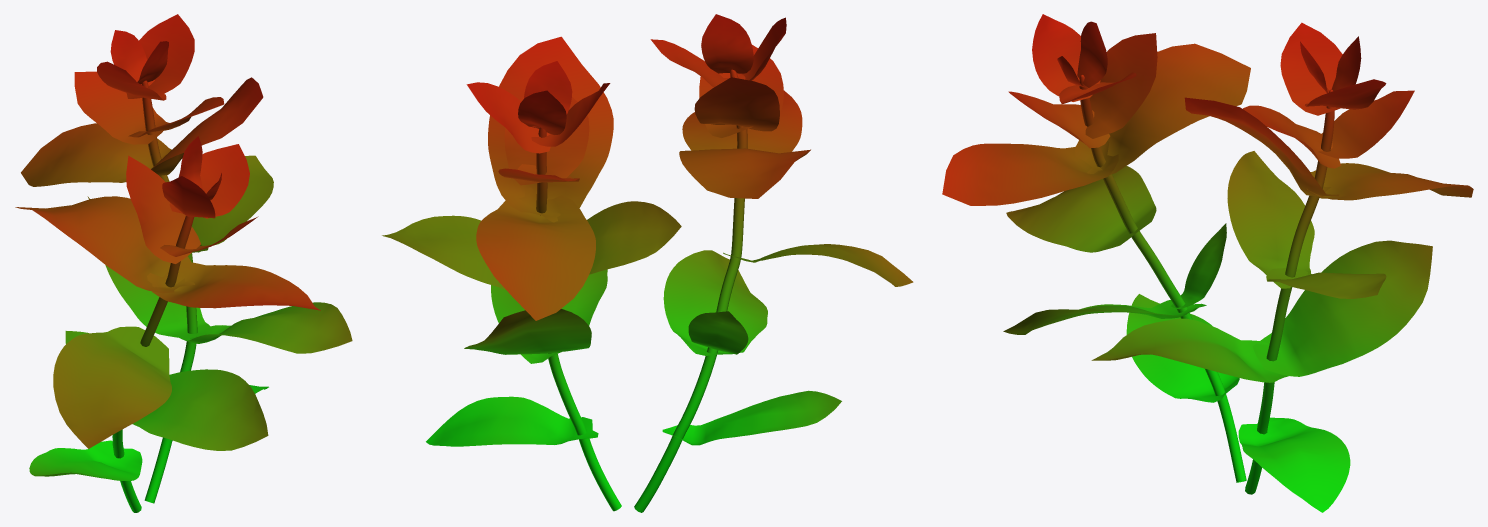
File: Rubber Bush_LOD0_Var7_xffhfekia.fbx
The picture shows the model from 3 angles, left to right: view 1: azimuth 30°, elevation 25°; view 2: azimuth 150°, elevation 25°; view 3: azimuth 270°, elevation 25°; orthographic projection. The views are drawn at different scales.
Visible parts, largest first — view 1: _zy40_Var7_LOD0; view 2: _zy40_Var7_LOD0; view 3: _zy40_Var7_LOD0.
Part boxes in pixels (x1,y1,x2,y2): _zy40_Var7_LOD0: [15, 14, 352, 512]; _zy40_Var7_LOD0: [382, 14, 913, 512]; _zy40_Var7_LOD0: [942, 14, 1473, 512].
Size of the model in its own units: 34.98 by 42.92 by 44.03.
